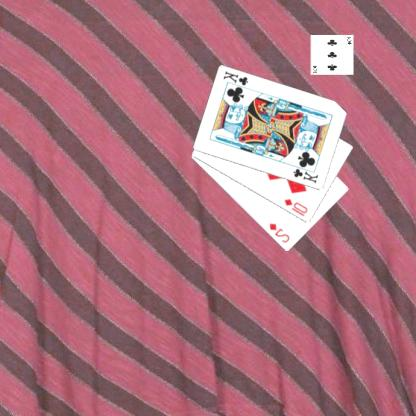10D: (284, 196, 310, 218)
2D: (268, 221, 293, 244)
KC: (292, 162, 321, 185), (223, 69, 252, 91)
